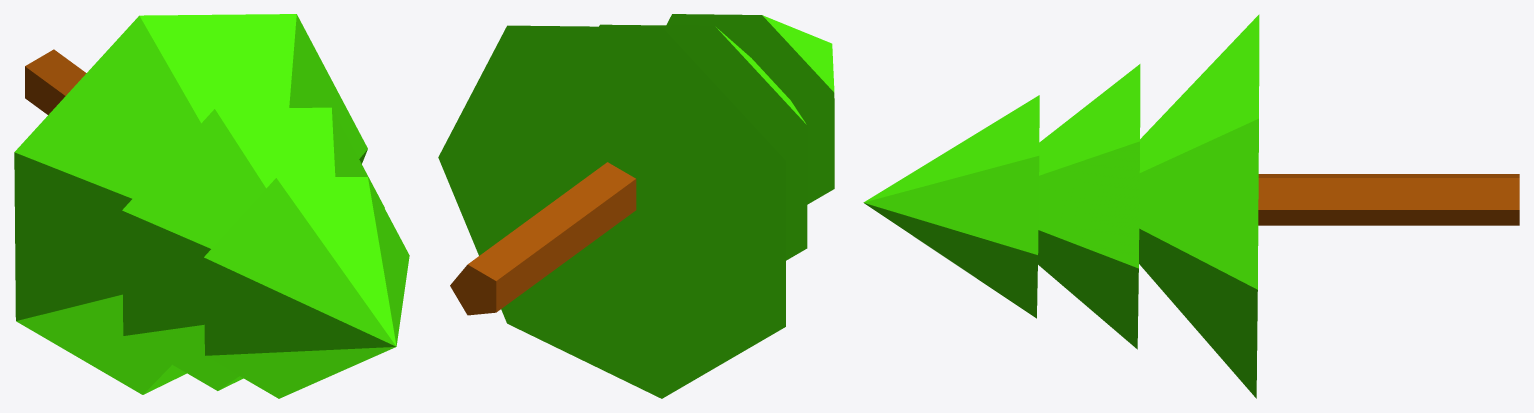
Rendered from tree.obj.
3 views of the same model, side by side, from view 1: azimuth 30°, elevation 25°; view 2: azimuth 150°, elevation 25°; view 3: azimuth 270°, elevation 25° (orthographic). The views are drawn at different scales.
Visible parts, largest first — view 1: Cone004, Cone002, Cone003, Cylinder001; view 2: Cone004, Cylinder001, Cone002, Cone003; view 3: Cone004, Cone003, Cone002, Cylinder001.
Part boxes in pixels (box(x1,y1,x2,y2)): Cone004: box(14, 14, 367, 394); Cone002: box(203, 177, 409, 398); Cone003: box(122, 107, 384, 390); Cylinder001: box(25, 49, 86, 114); Cone004: box(438, 25, 785, 398); Cylinder001: box(450, 162, 636, 315); Cone002: box(666, 14, 834, 204); Cone003: box(599, 24, 807, 260); Cone004: box(1139, 14, 1259, 398); Cone003: box(1038, 64, 1140, 349); Cone002: box(863, 95, 1039, 318); Cylinder001: box(1258, 174, 1519, 225).
Size of the model in its own units: 4.28 by 4.38 by 7.47.
